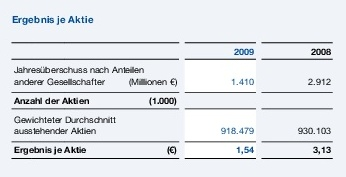table: (0, 0, 346, 177)
